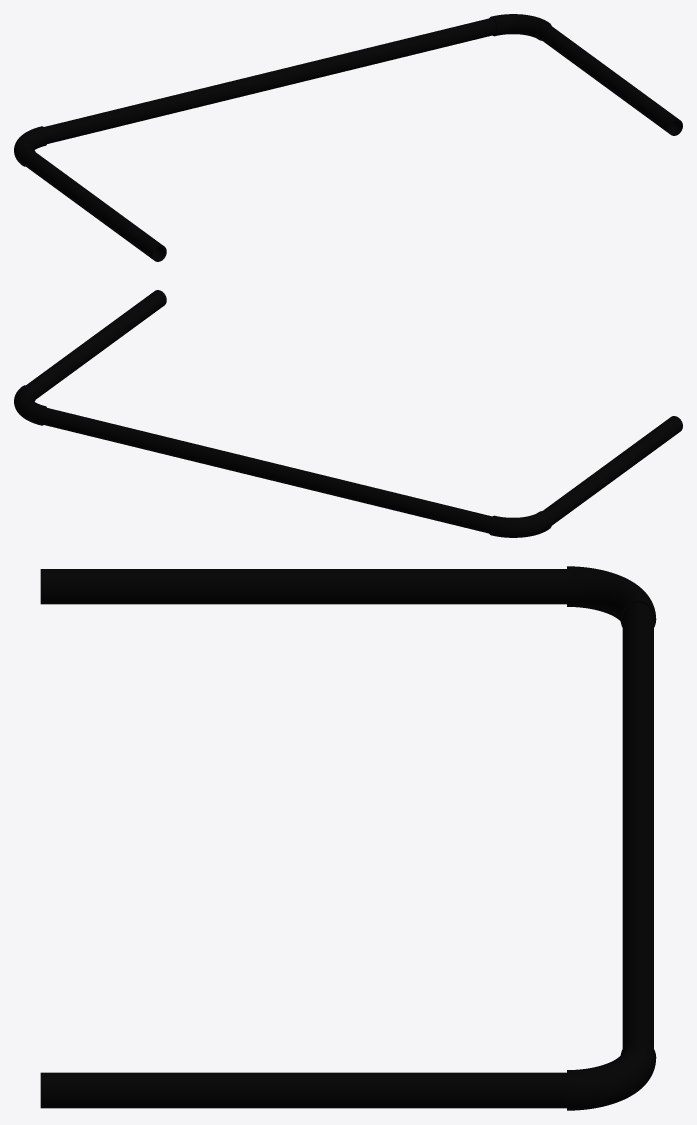
Rendered from start_gate.dae.
The picture shows the model from 3 angles, top to bottom: view 1: azimuth 30°, elevation 25°; view 2: azimuth 150°, elevation 25°; view 3: azimuth 270°, elevation 25°; orthographic projection. The views are drawn at different scales.
Parts seen in each view (by area): view 1: SubjuGator_Starting_Gate_Model; view 2: SubjuGator_Starting_Gate_Model; view 3: SubjuGator_Starting_Gate_Model.
Boxes of the visible parts, box(x1,y1,x2,y2) form: SubjuGator_Starting_Gate_Model: box(14, 14, 682, 261); SubjuGator_Starting_Gate_Model: box(14, 290, 682, 537); SubjuGator_Starting_Gate_Model: box(40, 566, 656, 1110).
Bounding box in the file's own units: 120 × 60 × 4.
1 material, 1 textured.
